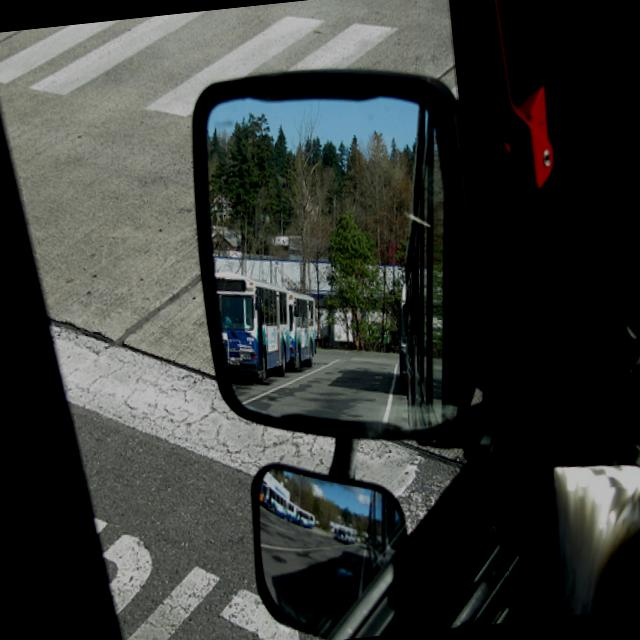Vehicle: (216, 266, 298, 384)
